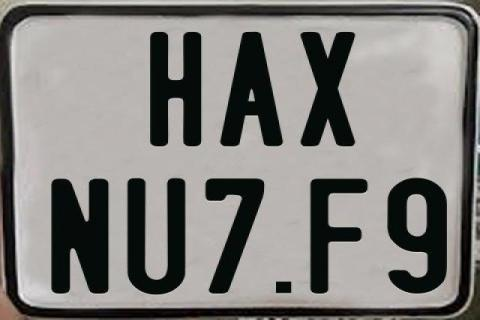0: (387, 175, 452, 292), (202, 178, 263, 298)
A: (220, 30, 288, 146)
F: (310, 176, 368, 294)
H: (150, 30, 207, 150)
N: (51, 176, 111, 292)
U: (126, 177, 186, 293)
X: (299, 30, 360, 148)
